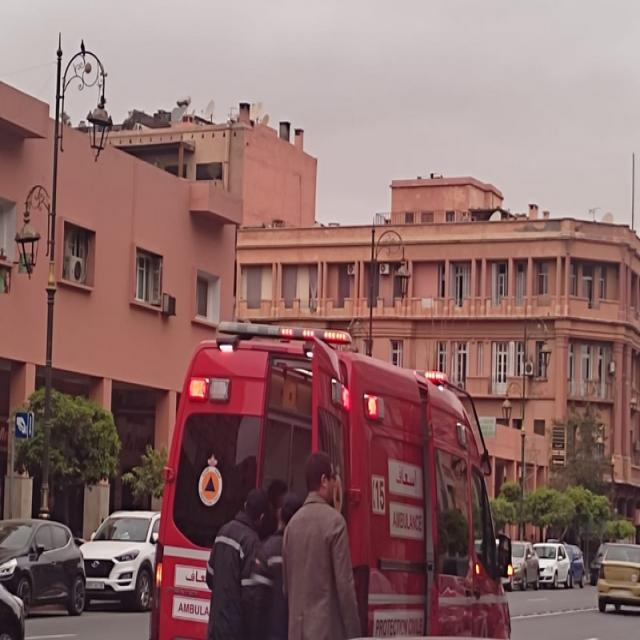ambulance: (154, 302, 510, 640)
